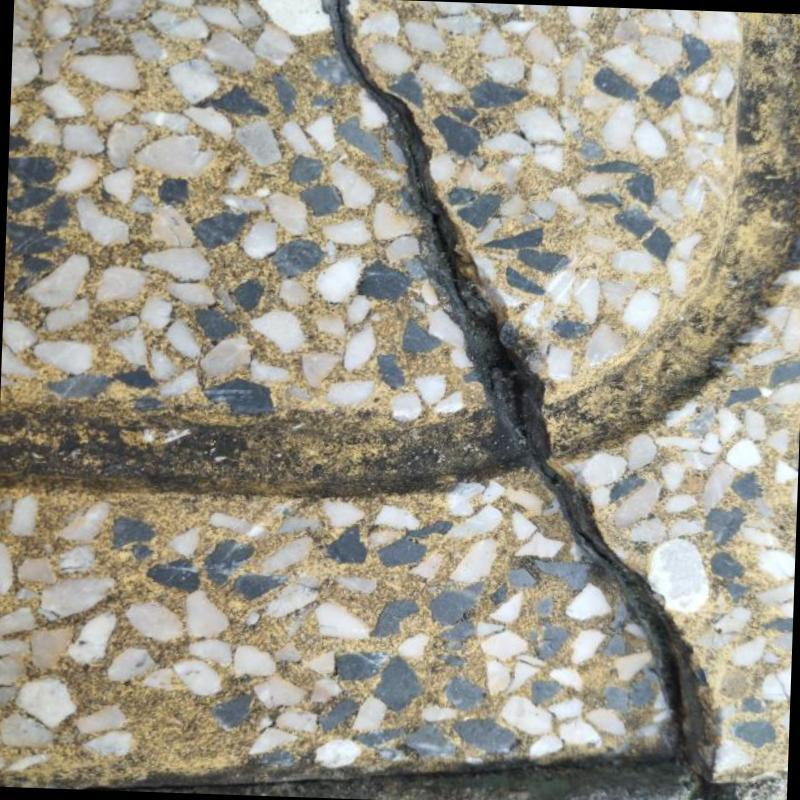pothole: (333, 0, 708, 782)
